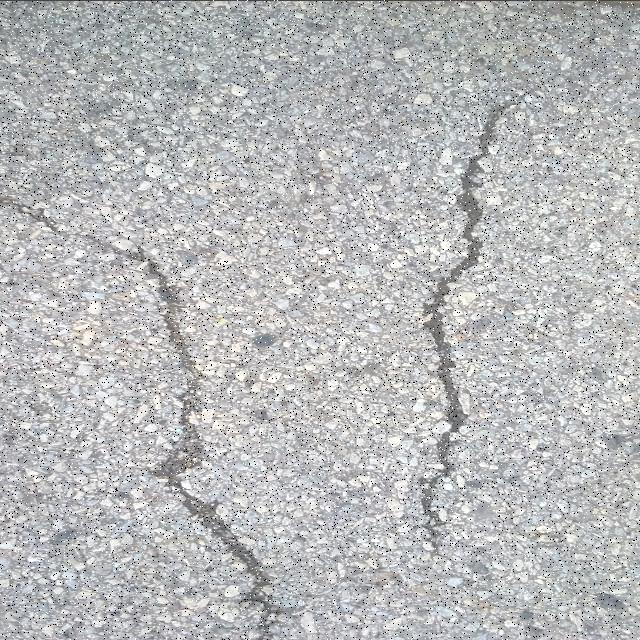Crack: (0, 185, 278, 640), (418, 105, 508, 556)
